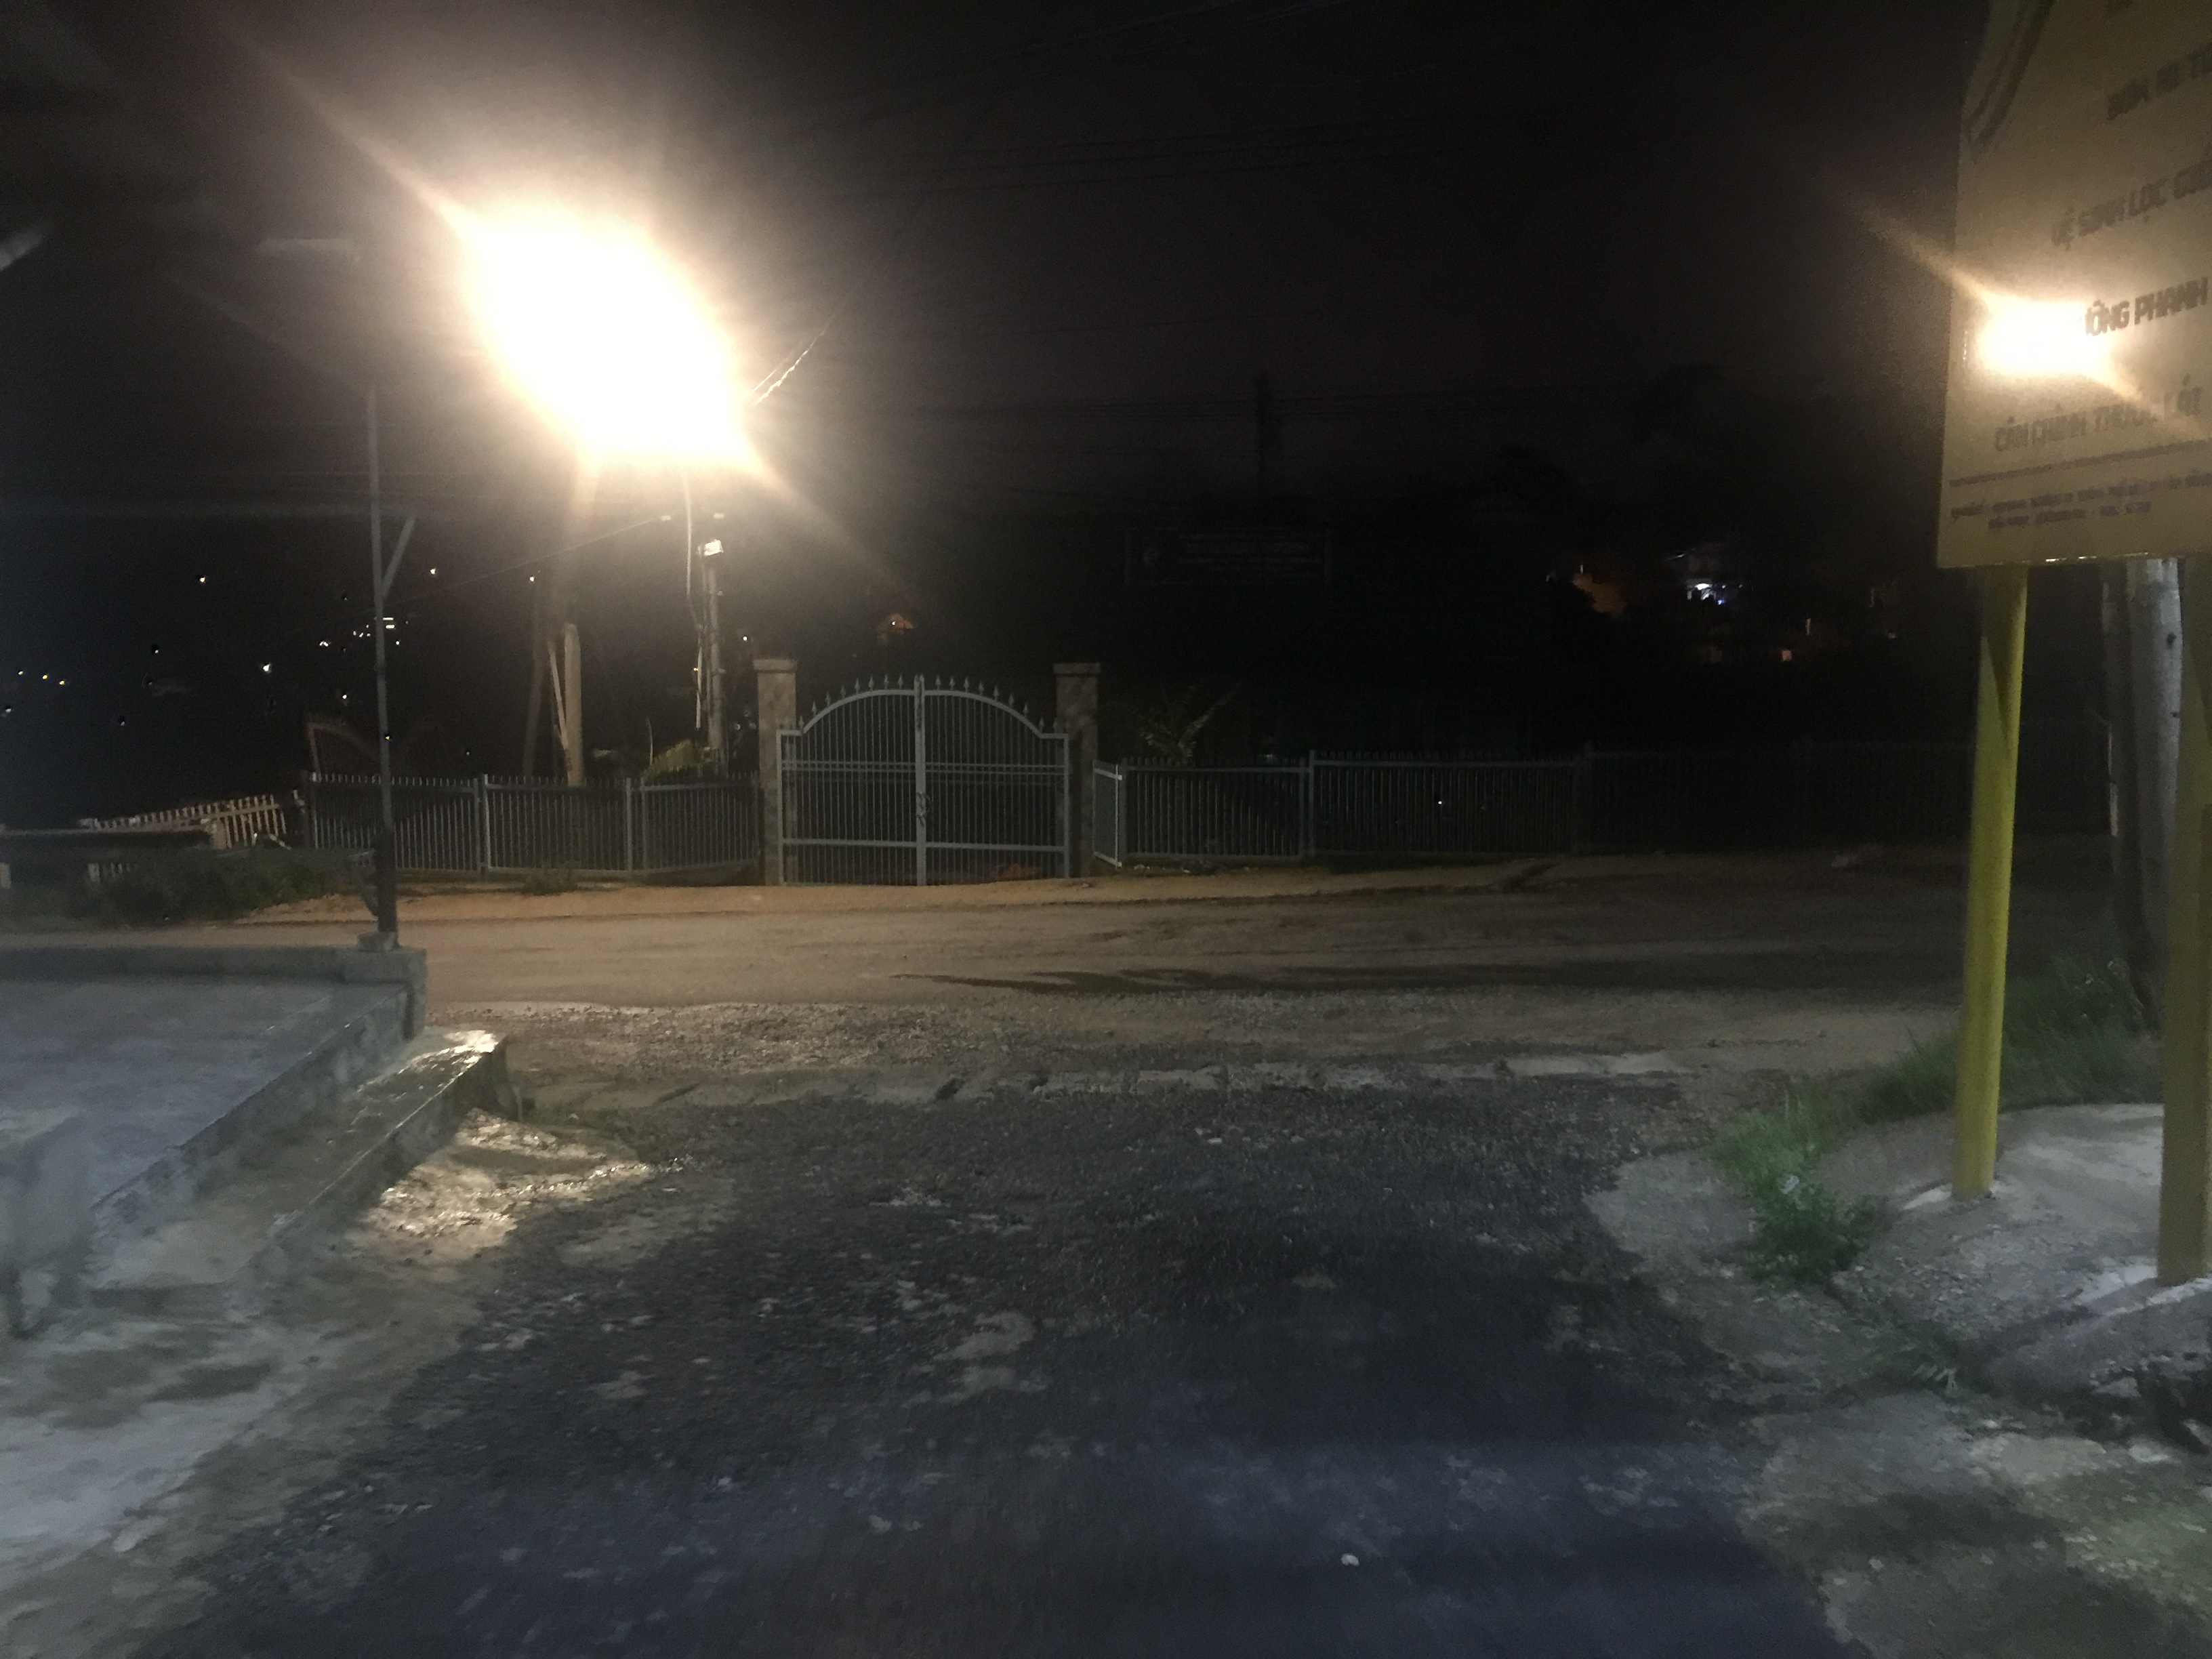hole: (866, 1183, 956, 1211)
